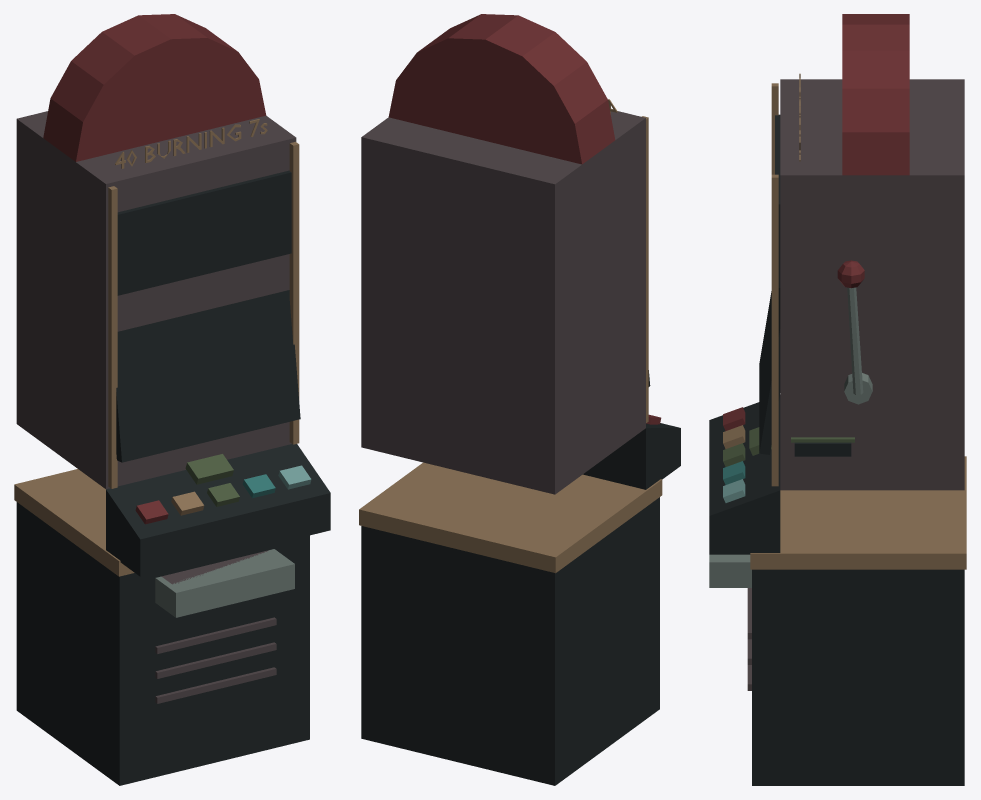
The model's file is pacanea.glb.
3 renders of one model, left to right at view 1: azimuth 30°, elevation 25°; view 2: azimuth 150°, elevation 25°; view 3: azimuth 270°, elevation 25°, orthographic. The views are drawn at different scales.
Parts seen in each view (by area): view 1: Pacanea, Lumini; view 2: Pacanea, Lumini; view 3: Pacanea, Lumini, Maner.
Boxes of the visible parts, x1,y1,x2,y2 form: Pacanea: [14, 14, 330, 785]; Lumini: [108, 119, 311, 524]; Pacanea: [359, 14, 680, 785]; Lumini: [608, 99, 661, 424]; Pacanea: [709, 14, 966, 785]; Lumini: [723, 73, 854, 502]; Maner: [837, 260, 864, 394].
Bounding box in the file's own units: 0.743 × 2.22 × 0.725.
